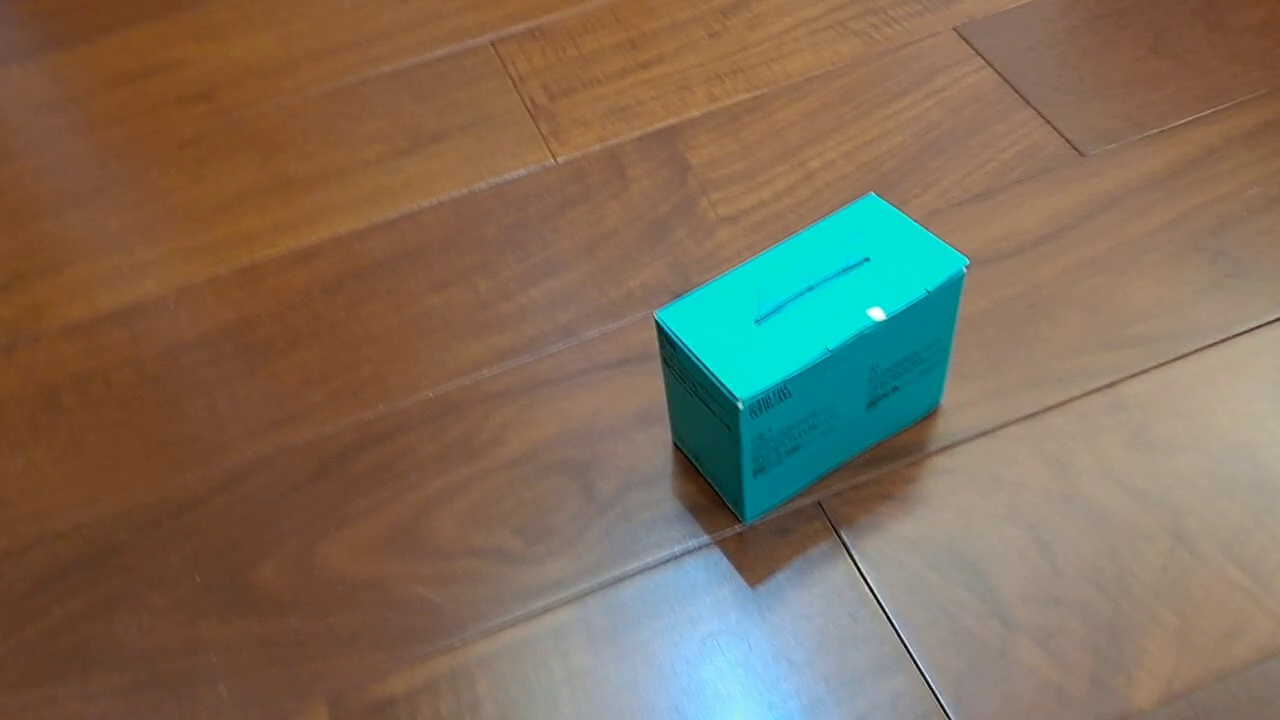webcam: (650, 188, 971, 529)
